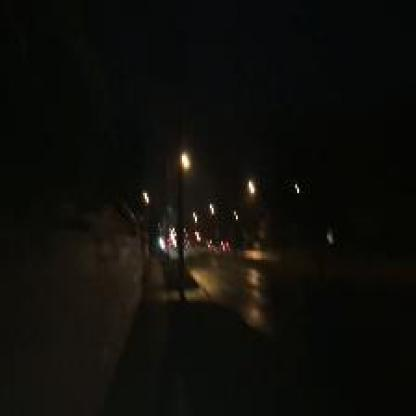other: (157, 216, 237, 260), (186, 196, 240, 226), (176, 142, 199, 177), (242, 171, 261, 198)
